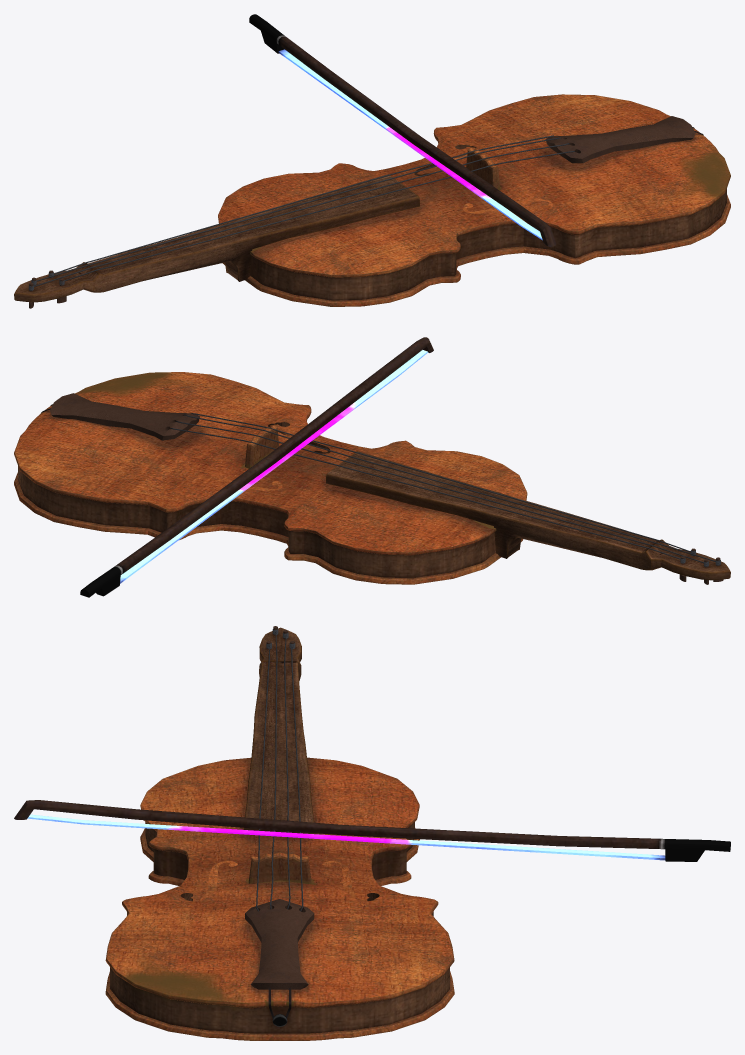
The model's file is violen_with_bow.glb.
The picture shows the model from 3 angles, top to bottom: view 1: azimuth 30°, elevation 25°; view 2: azimuth 150°, elevation 25°; view 3: azimuth 270°, elevation 25°; orthographic projection. The views are drawn at different scales.
Parts seen in each view (by area): view 1: body, neck, Bow, strings1, tail; view 2: body, neck, Bow, strings1, tail; view 3: body, Bow, neck, tail, strings1.
Boxes of the visible parts, bbox=[...] form: body: bbox=[218, 94, 730, 306]; neck: bbox=[14, 174, 419, 308]; Bow: bbox=[249, 14, 556, 246]; strings1: bbox=[28, 135, 574, 290]; tail: bbox=[545, 116, 703, 163]; body: bbox=[14, 372, 527, 584]; neck: bbox=[326, 451, 730, 584]; Bow: bbox=[80, 337, 433, 597]; strings1: bbox=[170, 413, 720, 566]; tail: bbox=[41, 393, 199, 440]; body: bbox=[105, 757, 454, 1040]; Bow: bbox=[14, 800, 730, 861]; neck: bbox=[244, 626, 314, 833]; tail: bbox=[245, 899, 314, 1026]; strings1: bbox=[256, 629, 303, 911].
Bounding box in the file's own units: 807 × 109 × 660.
1 material, 1 textured.
